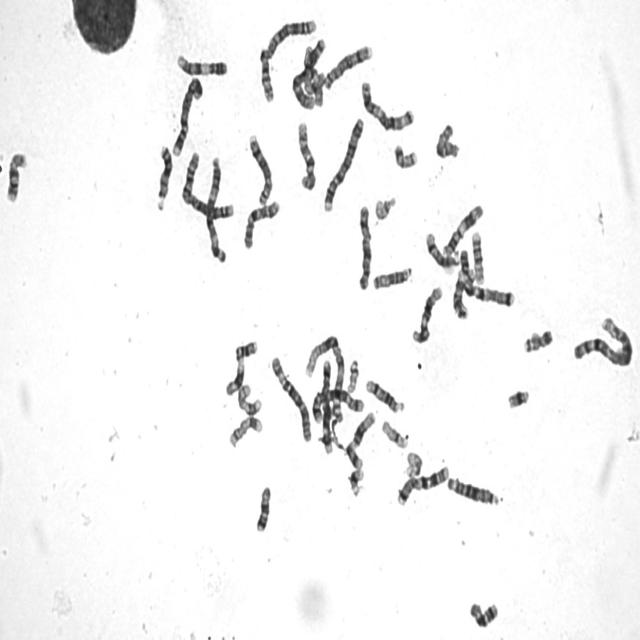A1: (302, 329, 347, 424), (570, 312, 634, 369)
A2: (257, 14, 319, 104), (179, 147, 236, 222)
A3: (358, 76, 416, 134), (202, 155, 229, 265)
B4: (321, 113, 365, 214), (170, 71, 205, 158)
B5: (309, 385, 366, 425), (318, 356, 334, 455)
C10: (242, 196, 282, 252), (295, 118, 317, 192)
C11: (440, 200, 486, 260), (222, 336, 259, 398)
C12: (410, 282, 444, 345), (343, 408, 377, 470)
C6: (269, 352, 313, 444), (289, 63, 327, 110)
C7: (456, 245, 516, 308), (394, 461, 451, 508)
C8: (321, 39, 374, 92), (246, 130, 274, 208)
C9: (450, 242, 473, 326), (174, 49, 228, 79)
D13: (445, 472, 500, 508), (154, 140, 173, 212)
D14: (362, 375, 406, 415), (424, 229, 461, 269)
D15: (370, 262, 414, 292), (433, 120, 461, 160)
E16: (5, 150, 30, 205), (470, 228, 486, 286)
E17: (226, 411, 264, 450), (235, 380, 263, 418)
E18: (466, 594, 504, 632), (253, 482, 273, 534)
F19: (379, 416, 409, 451), (403, 448, 424, 480)
F20: (522, 324, 554, 356), (391, 140, 419, 170)
G21: (505, 384, 531, 411), (346, 463, 366, 498)
G22: (372, 192, 397, 222), (344, 356, 360, 396)
X: (356, 200, 373, 292)
